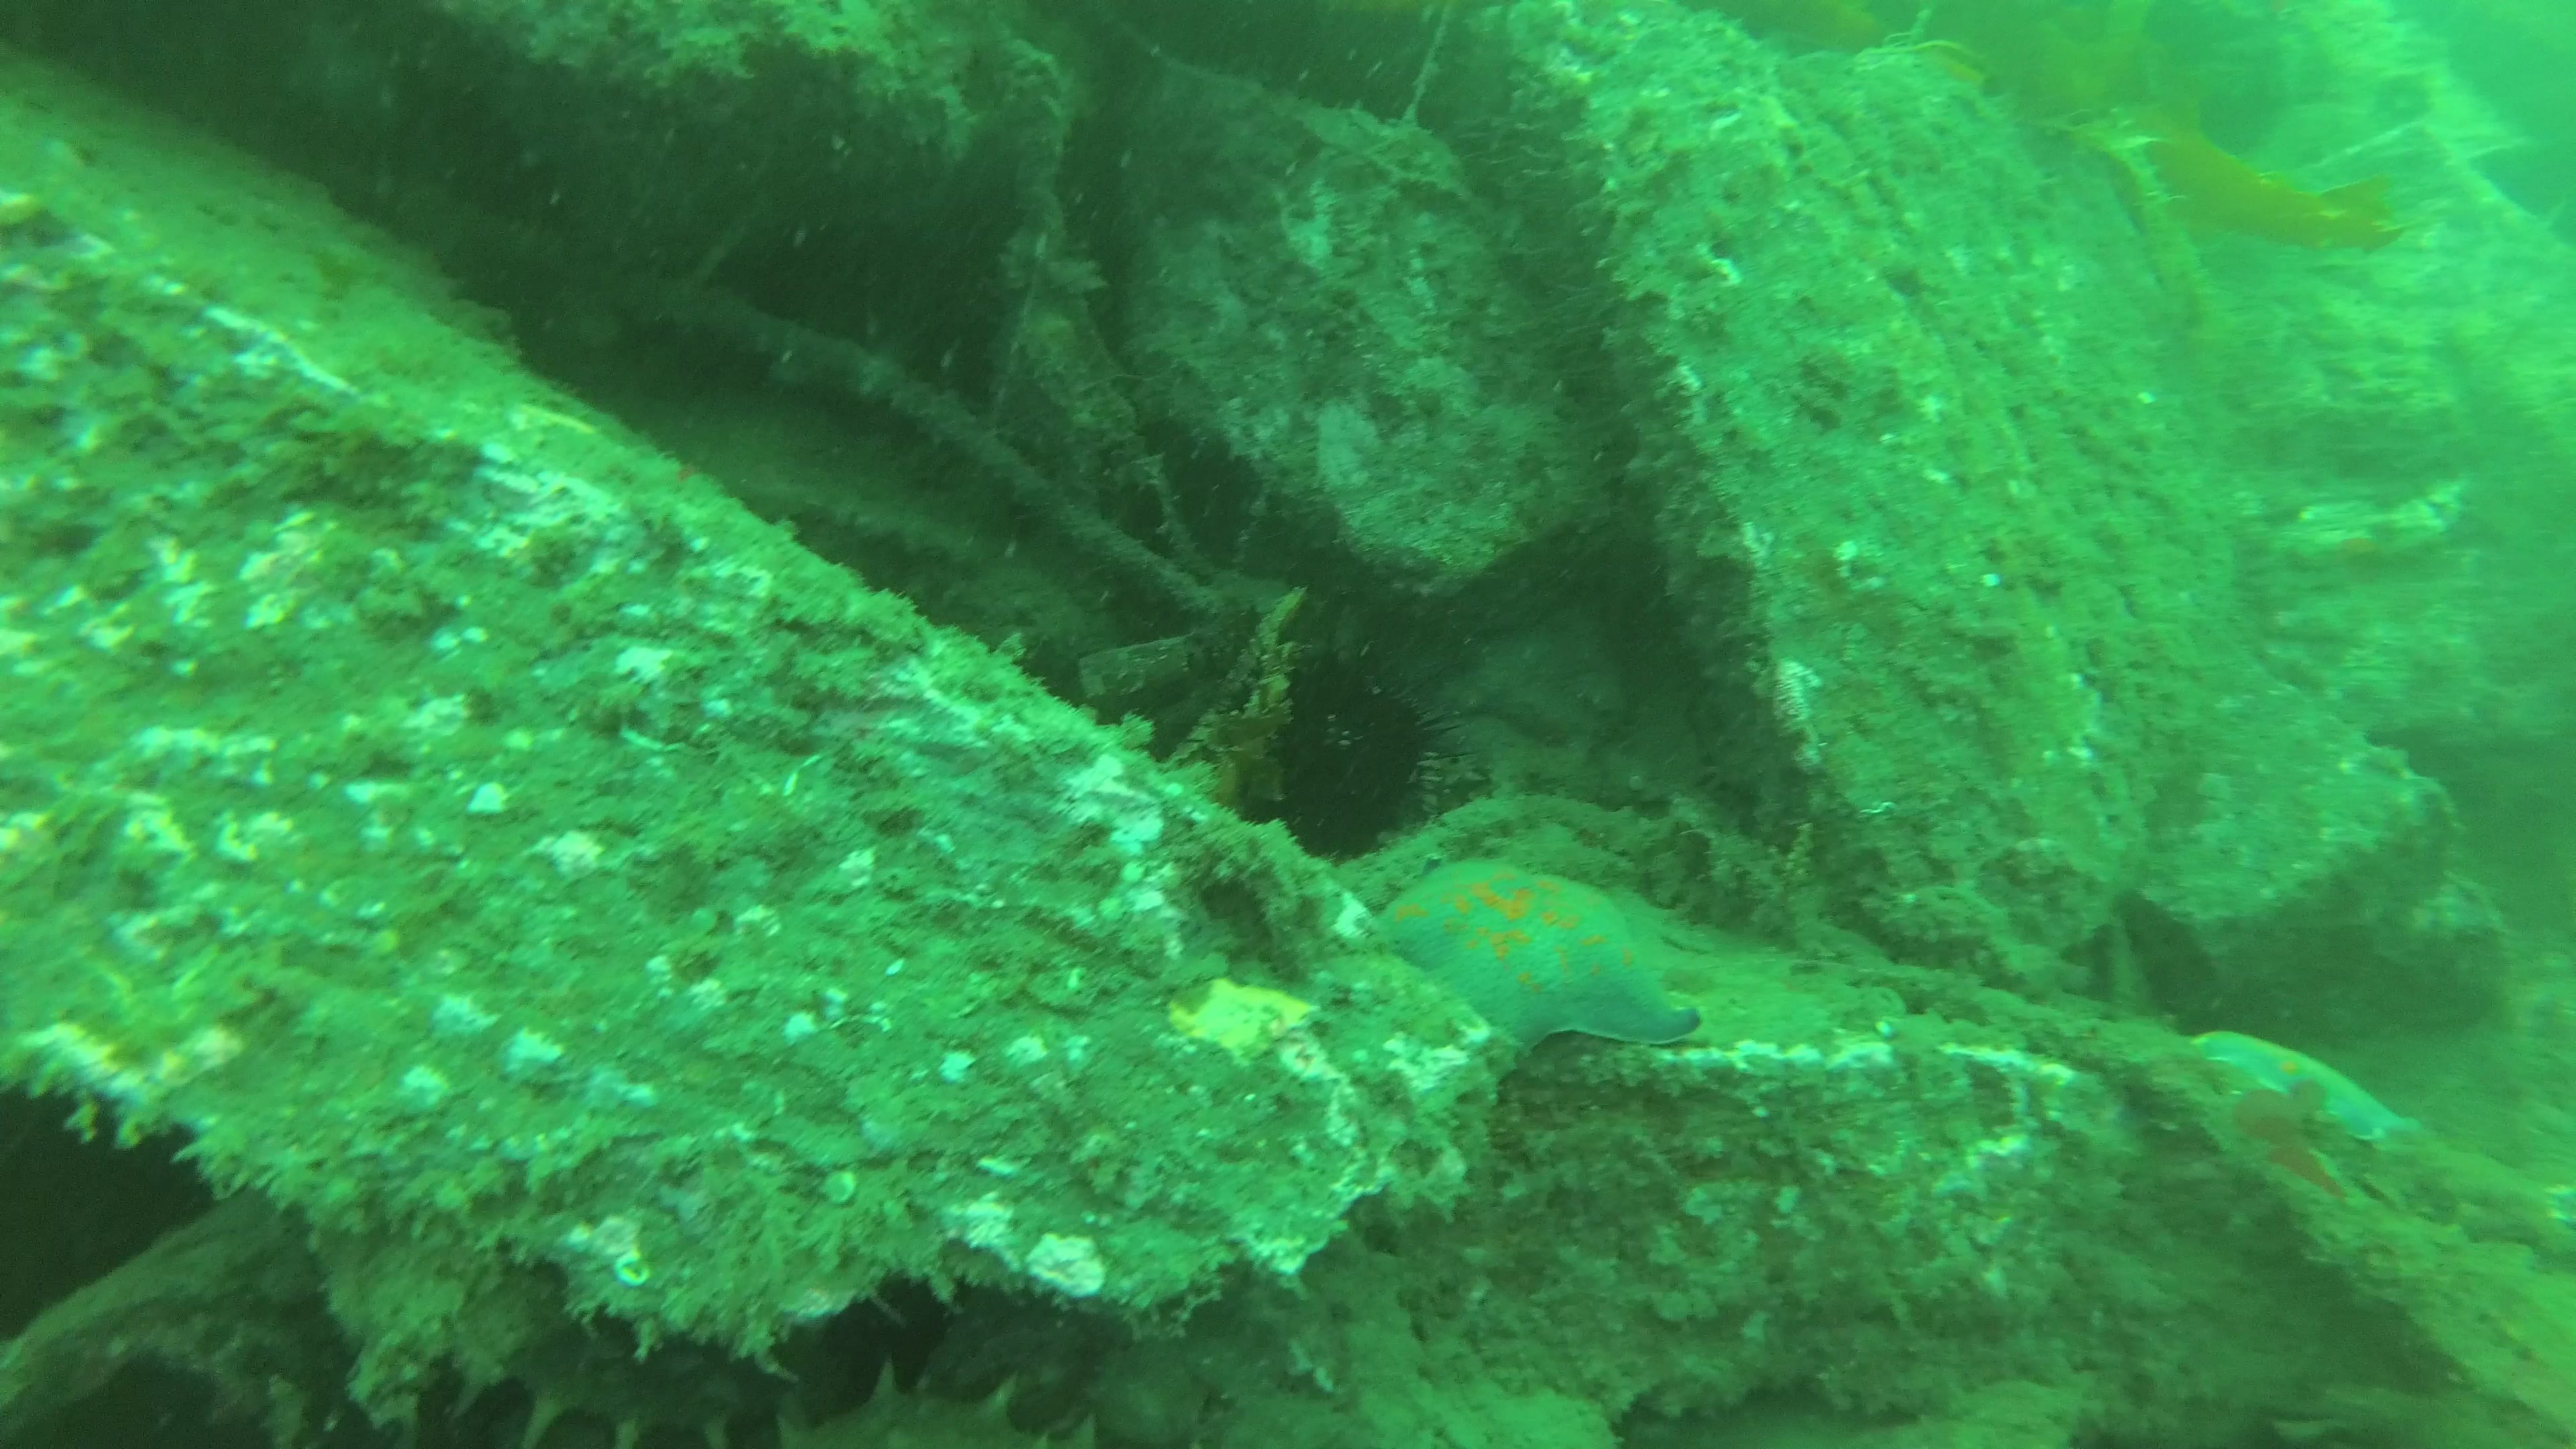echinus: (1263, 688, 1476, 853)
holothurian: (465, 1306, 759, 1449), (775, 1369, 1109, 1449)
starfish: (1359, 862, 1702, 1083), (2167, 1028, 2426, 1155), (2521, 1171, 2576, 1237)
